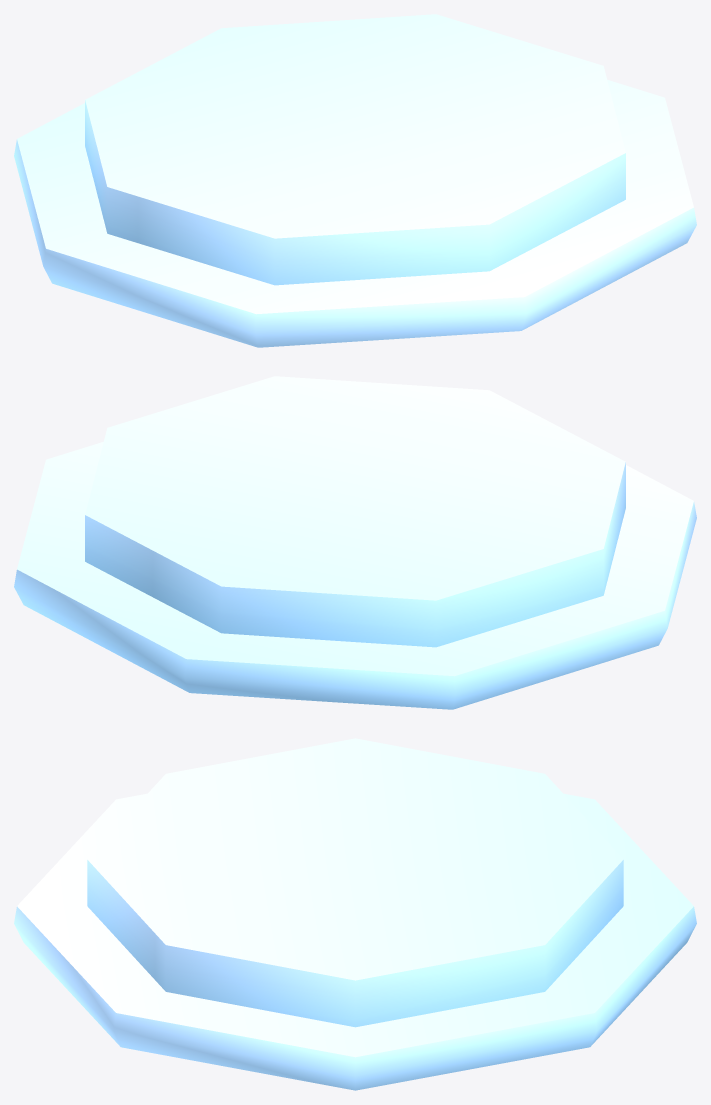
Rendered from steel_guard_061.glb.
The picture shows the model from 3 angles, top to bottom: view 1: azimuth 30°, elevation 25°; view 2: azimuth 150°, elevation 25°; view 3: azimuth 270°, elevation 25°; orthographic projection.
Visible parts, largest first — view 1: steel_guard_061; view 2: steel_guard_061; view 3: steel_guard_061.
Part boxes in pixels (left/top/right/bottom): steel_guard_061: left=14, top=14, right=696, bottom=347; steel_guard_061: left=14, top=376, right=696, bottom=709; steel_guard_061: left=14, top=738, right=696, bottom=1090.
Size of the model in its own units: 5.19 by 0.6605 by 4.92.
Materials: 1 (1 with a texture image).
